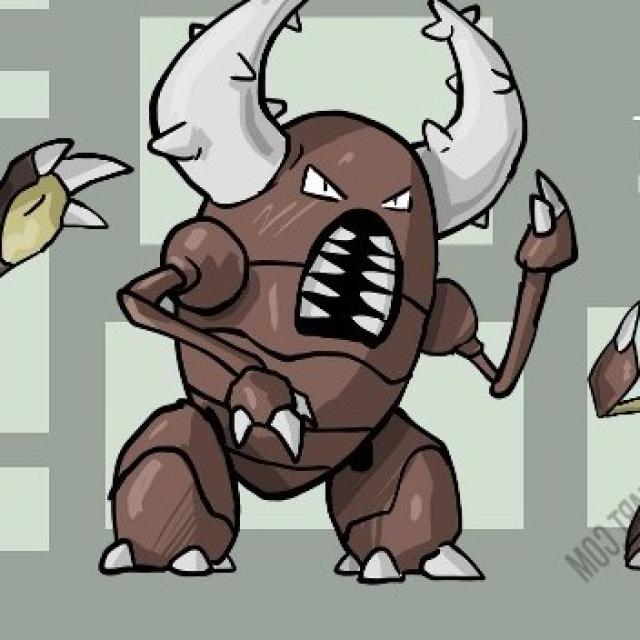Pinsir: (152, 14, 526, 576)
